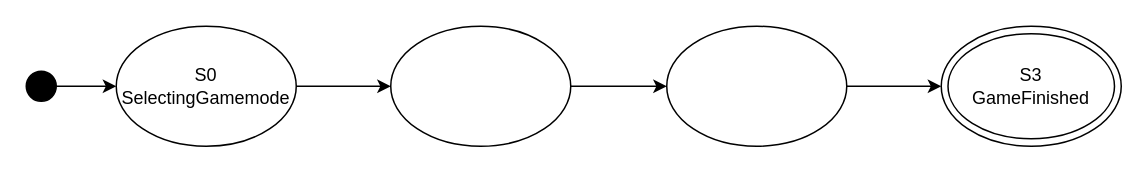
Image size: 1148x173. Some labels were removed from this diagram. The shapes that lost their labels are listed below. From the top down, each one's centre as x and y in pixels, then its label:
At [480,85]: "S1 WaitingToStart".
At [756,85]: "S2 InGame".
